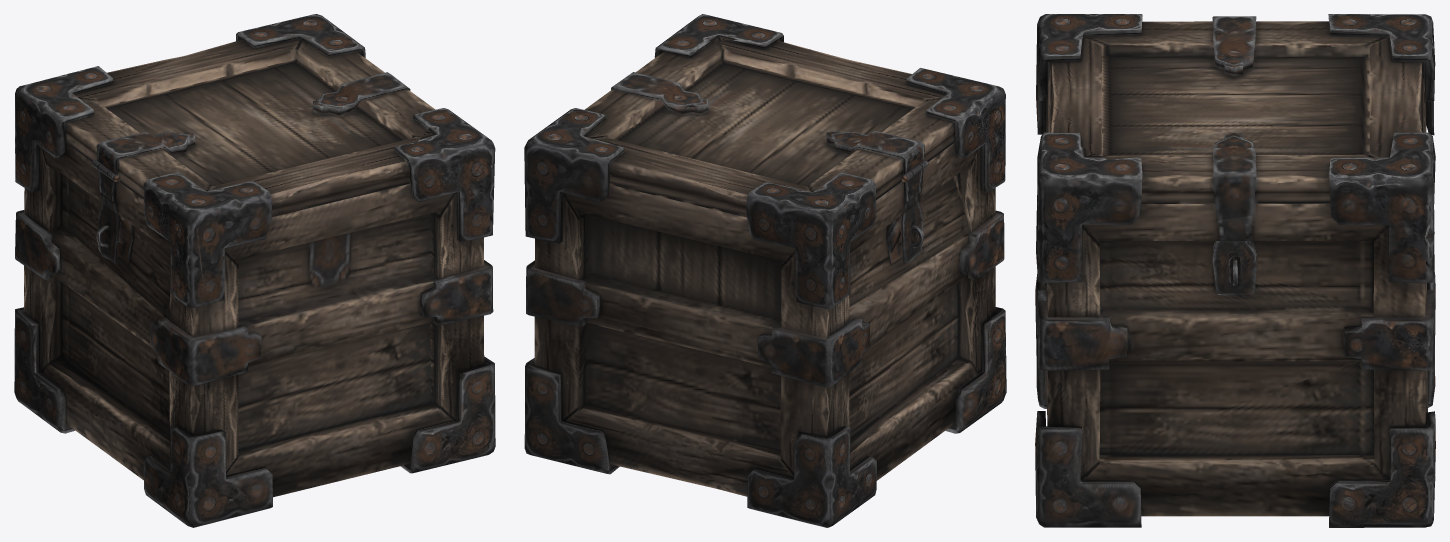
3 renders of one model, left to right at view 1: azimuth 30°, elevation 25°; view 2: azimuth 150°, elevation 25°; view 3: azimuth 270°, elevation 25°, orthographic. The views are drawn at different scales.
Size of the model in its own units: 1 by 0.9628 by 0.9886.
1 material, 1 textured.
